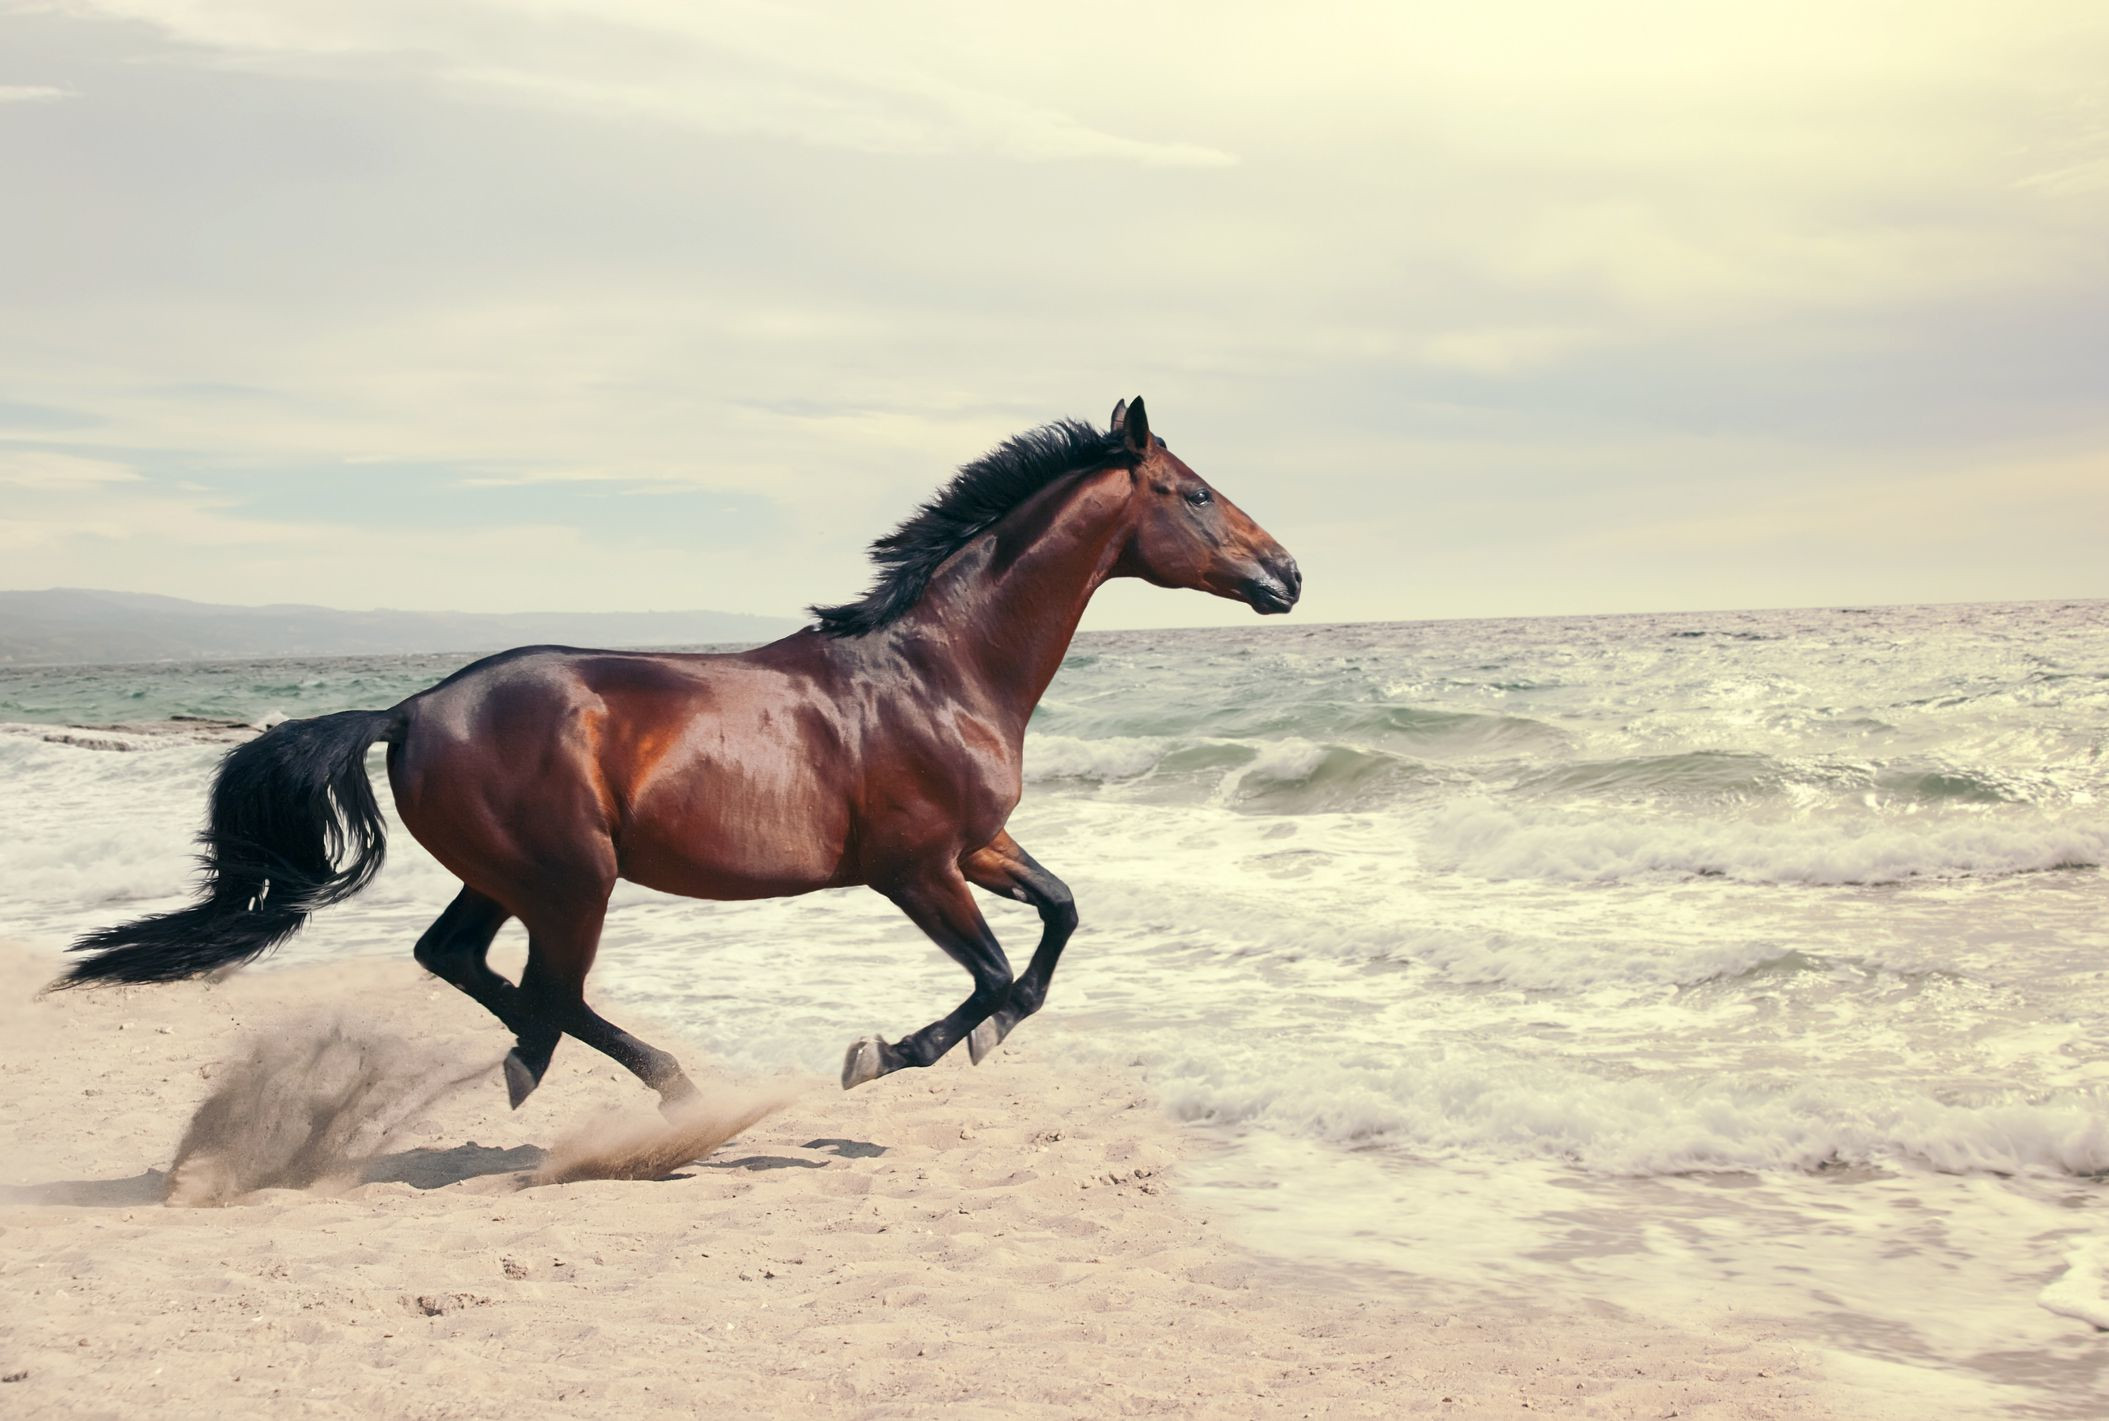horse: (38, 392, 1307, 1118)
